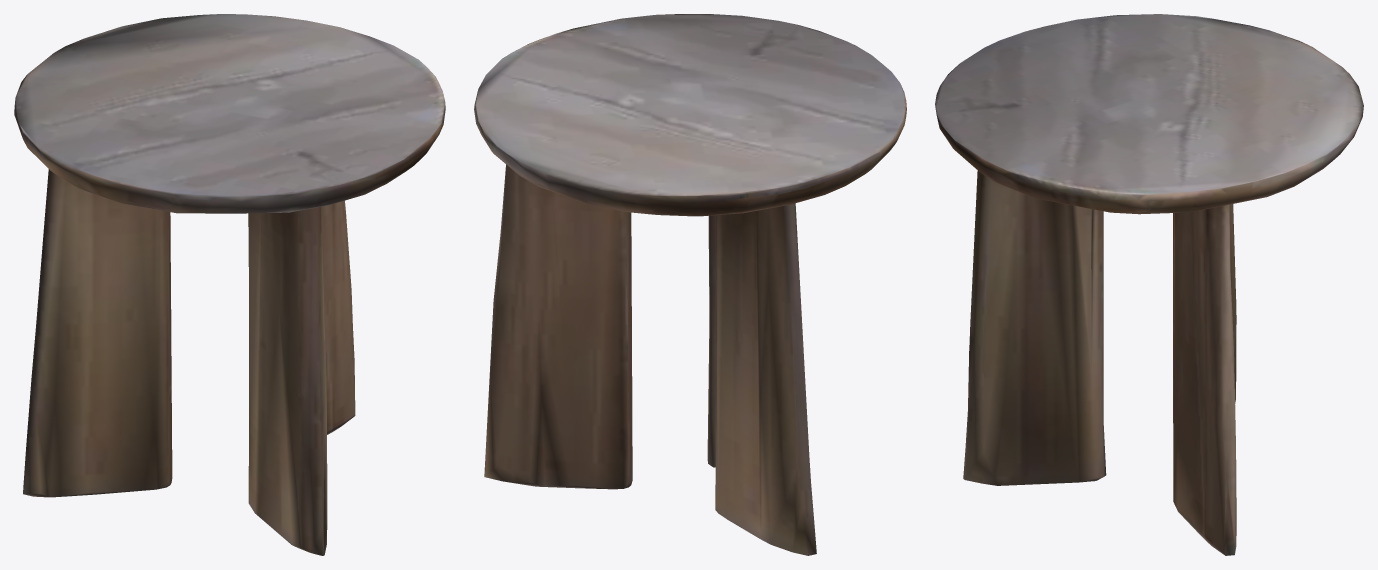
Rendered from coffee-table.lod2.glb.
3 renders of one model, left to right at view 1: azimuth 30°, elevation 25°; view 2: azimuth 150°, elevation 25°; view 3: azimuth 270°, elevation 25°, orthographic.
Visible parts, largest first — view 1: geometry_0; view 2: geometry_0; view 3: geometry_0.
Boxes of the visible parts, bbox=[...] form: geometry_0: bbox=[14, 14, 445, 555]; geometry_0: bbox=[474, 14, 906, 555]; geometry_0: bbox=[935, 14, 1363, 555].
Bounding box in the file's own units: 0.4999 × 0.4848 × 0.4995.
1 material, 1 textured.
